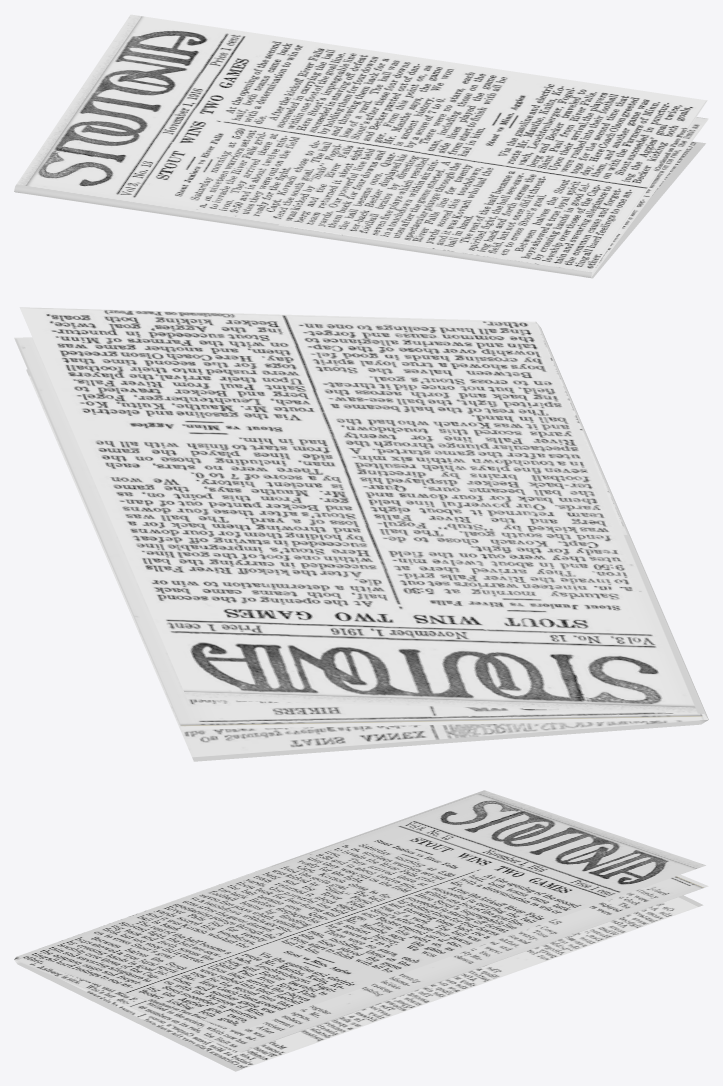
Rendered from Stoutonia.fbx.
3 renders of one model, top to bottom at view 1: azimuth 30°, elevation 25°; view 2: azimuth 150°, elevation 25°; view 3: azimuth 270°, elevation 25°, orthographic. The views are drawn at different scales.
Parts seen in each view (by area): view 1: stoutonia; view 2: stoutonia; view 3: stoutonia.
Part boxes in pixels (<box>): stoutonia: <box>14,14,708,278</box>; stoutonia: <box>14,307,708,761</box>; stoutonia: <box>14,790,708,1071</box>.
Bounding box in the file's own units: 0.2549 × 0.0185 × 0.2666.
